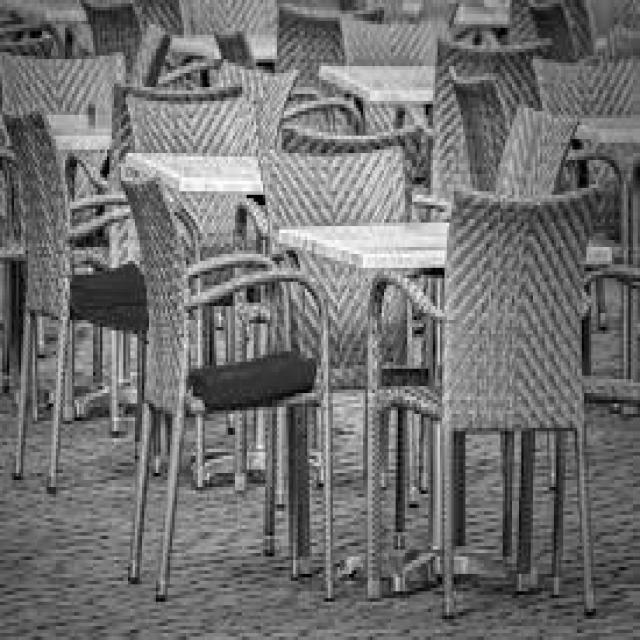chair: (366, 182, 603, 622), (119, 167, 336, 611), (1, 106, 150, 497), (0, 38, 128, 327), (447, 60, 571, 215), (255, 148, 412, 224), (116, 89, 269, 165), (488, 106, 582, 205)
